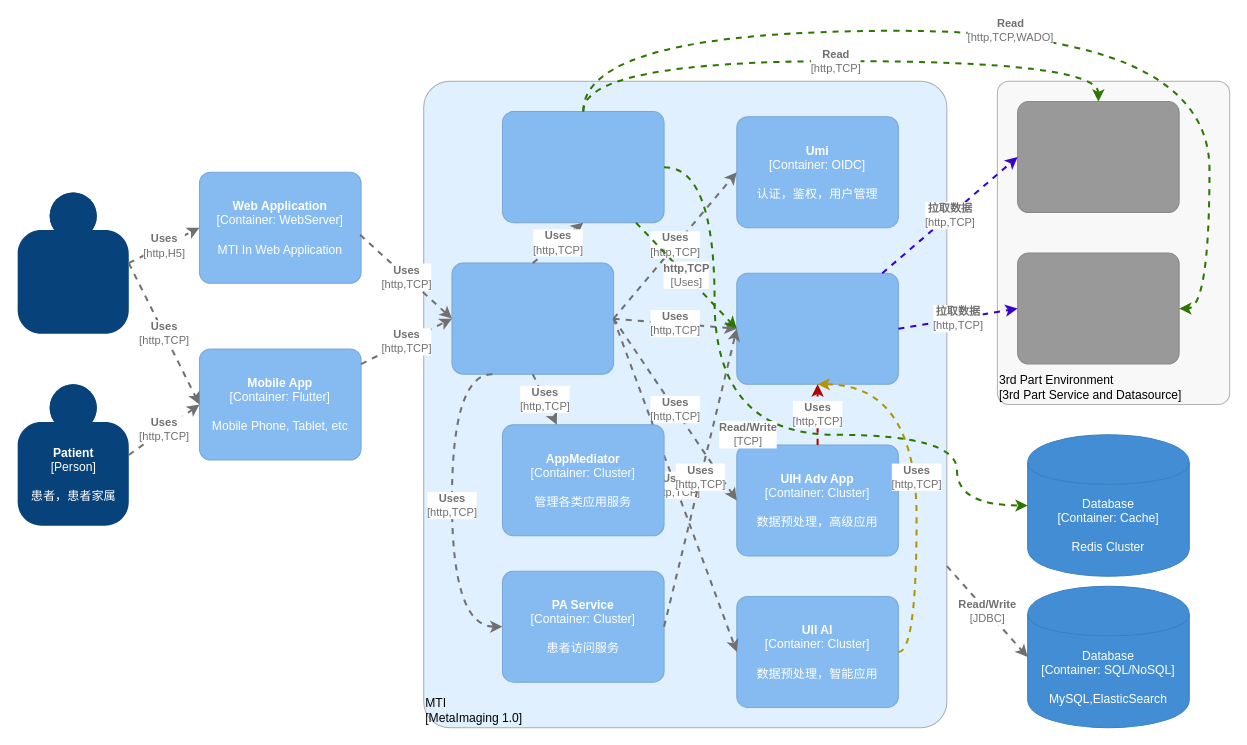
Image size: 1247x745. Some labels were removed from this diagram. The centre of each missing label's shape, as x and y in pixels:
3nd Part Service [Software System] HIS,RIS,LIS,etc: the point at 1098,156
3rd Part DS [Software System] PACS/VNA: the point at 1098,308
API Gateway [Container: APISIX] 路由，限流，鉴权等: the point at 532,318
Cetus [Container: Cluster] 大数据平台网关: the point at 817,328
DataIntegretor [Container: Cluster] 汇聚访问各类原始，业务数据: the point at 582,167
Doctor [Person] 临床医生 医技医生 科研医生: the point at 72,262
